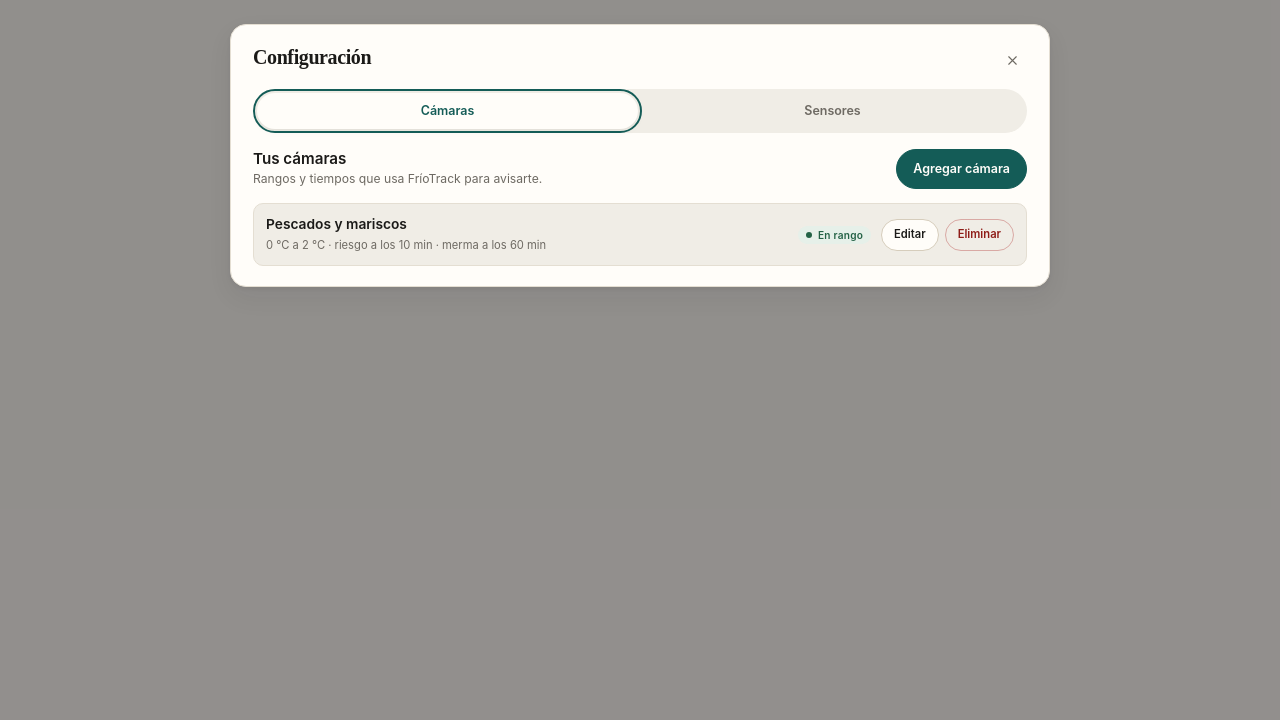
Test case: Configuracion › cambia a la pestaña de sensores y muestra los grupos por cámara
Expected: the button with aria-label "Eliminar cámara Pescados y mariscos" is shown, [945,219,1014,251]
Step 1. Click the tab "Sensores" → coordinates (832, 111), box [642,93,1023,129]
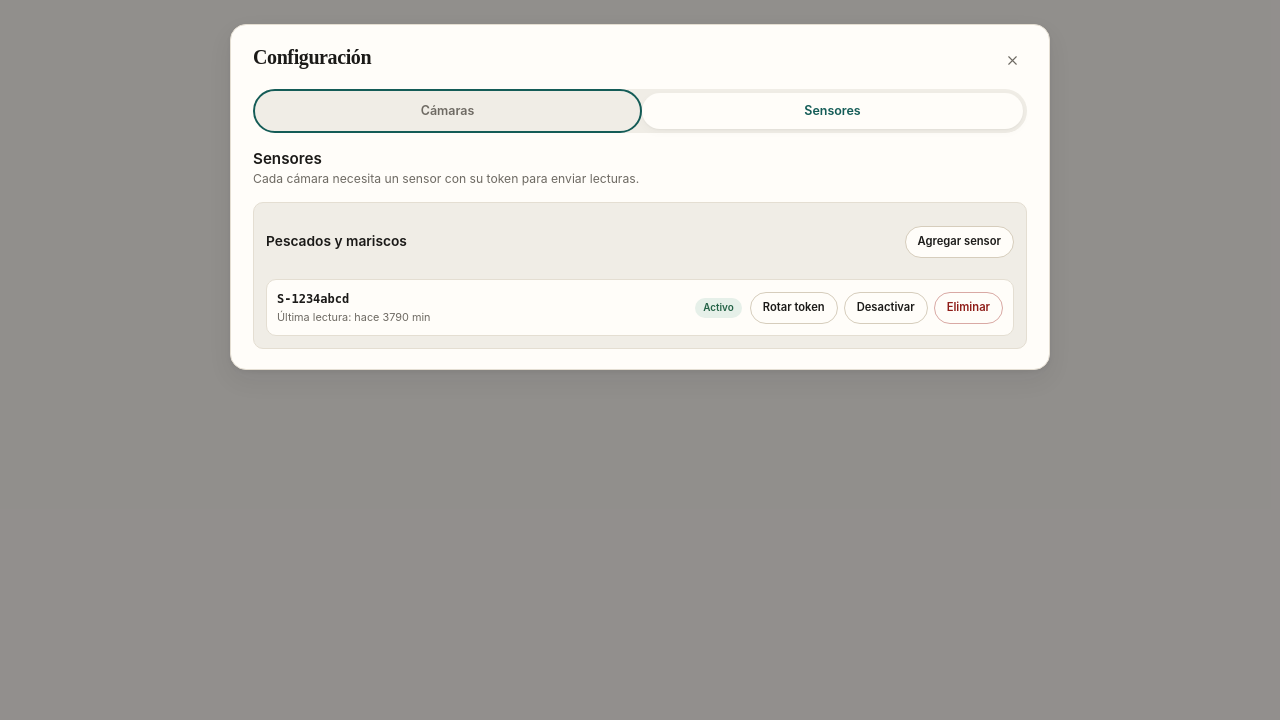
Expected: the button with aria-label "Agregar sensor a Pescados y mariscos" is shown, [904,226,1014,258]
Expected: the text "S-1234abcd" is shown, [277,292,349,306]
Expected: the text "Activo" is shown, [695,298,742,318]
